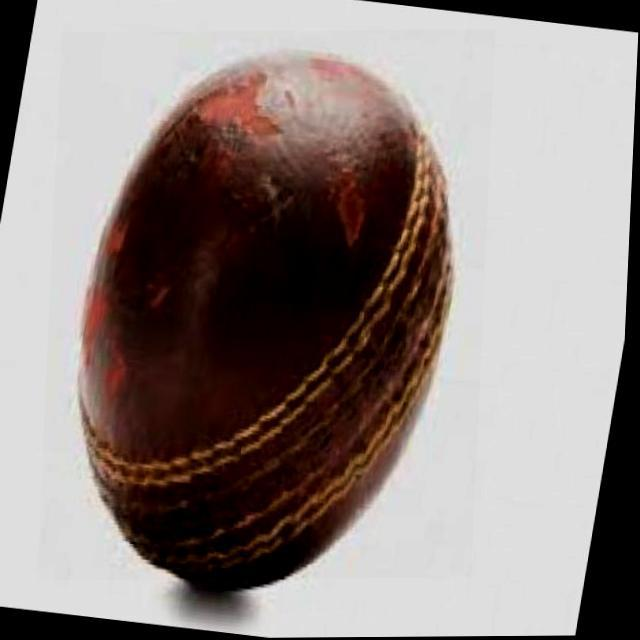-: (43, 30, 496, 581)
